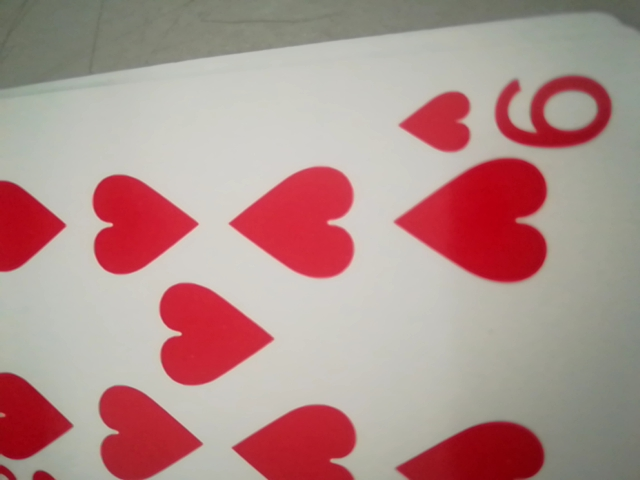hx 9: (395, 68, 615, 163)
